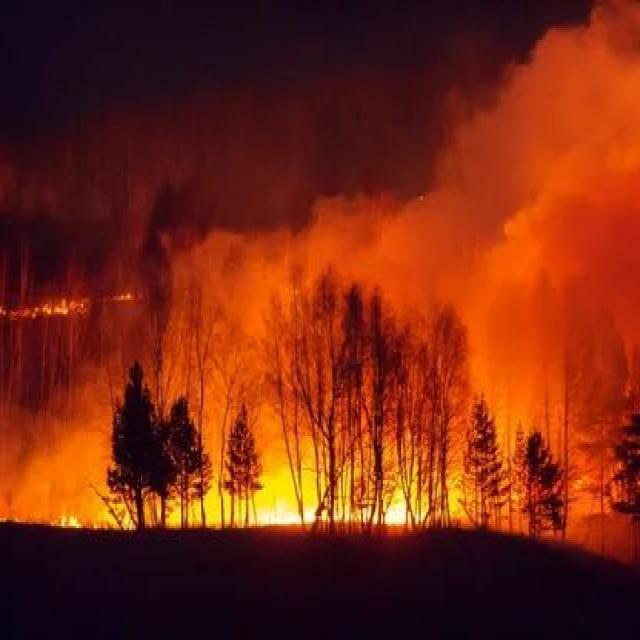Fire: (29, 439, 540, 566)
Smoke: (444, 0, 640, 576)
